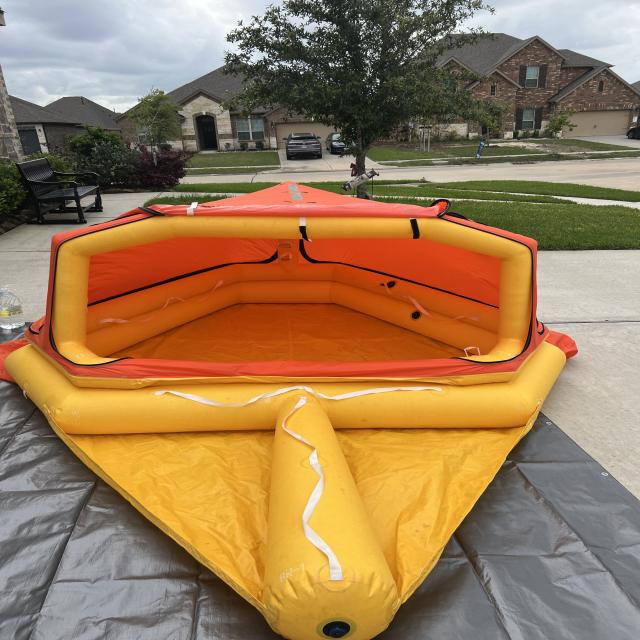Multi-person_life_raft: (0, 179, 578, 639)
